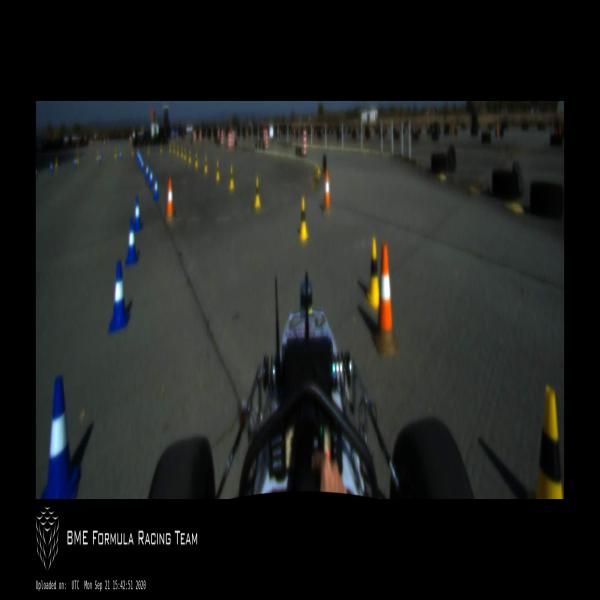blue_cone: (41, 375, 79, 498), (108, 260, 128, 335), (125, 218, 138, 264), (134, 195, 142, 232), (153, 178, 159, 200), (149, 168, 153, 188), (146, 161, 148, 179)
yellow_cone: (536, 386, 563, 499), (366, 238, 379, 309), (298, 198, 308, 242), (254, 179, 260, 209), (229, 168, 234, 190), (216, 161, 220, 181), (204, 156, 208, 173), (195, 153, 198, 167)
